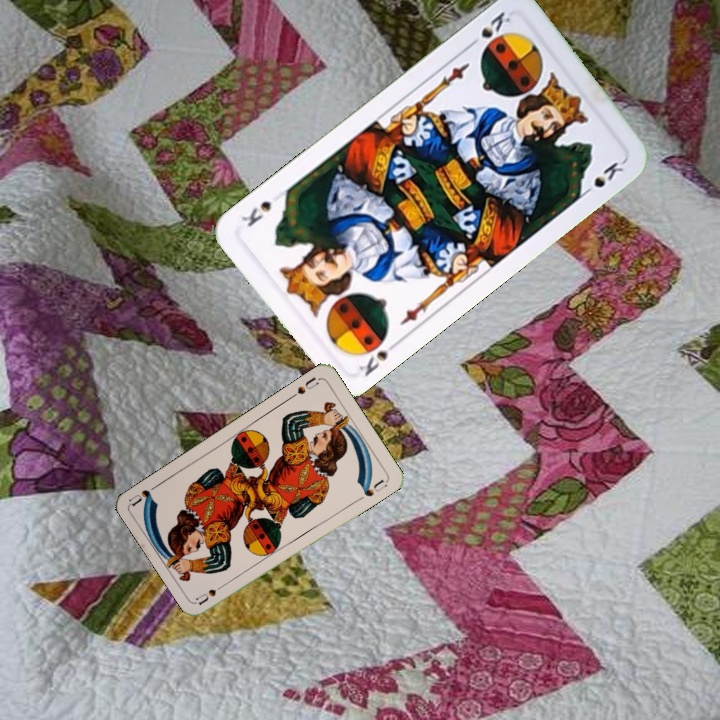SK: (463, 7, 514, 51), (355, 336, 402, 379)
SU: (192, 578, 230, 607), (286, 373, 321, 401)
